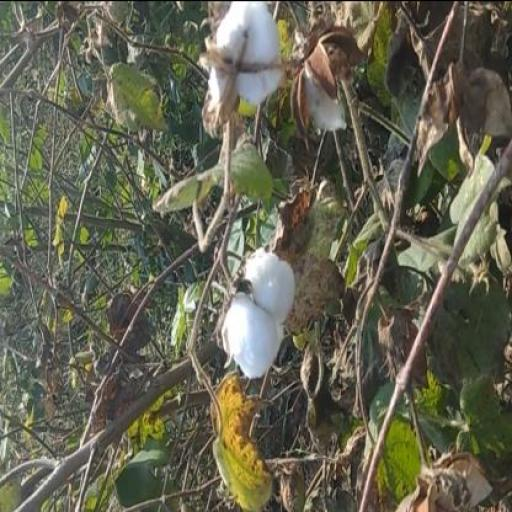cotton_ready: (208, 234, 304, 384), (195, 1, 299, 126)
